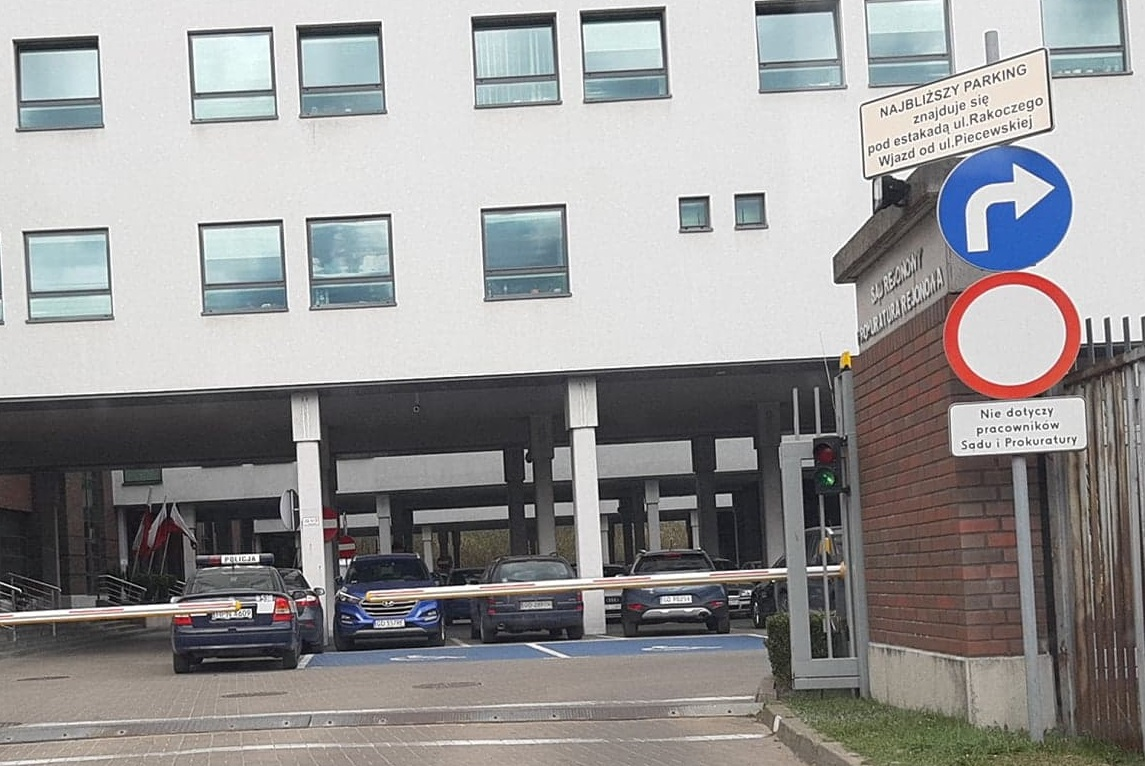no_entry_sign: (943, 273, 1082, 399)
